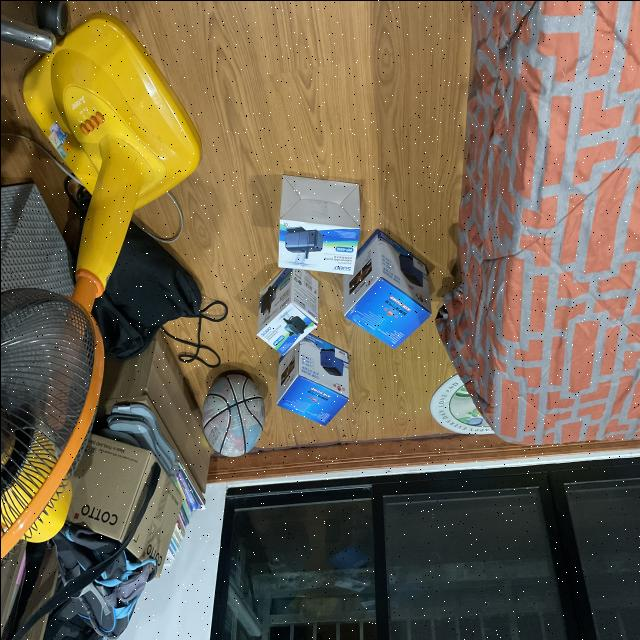SOBO_WP_4200: (267, 165, 373, 295), (242, 261, 324, 363)
YAMANO_LPP_20: (342, 234, 434, 362), (271, 334, 359, 441)
